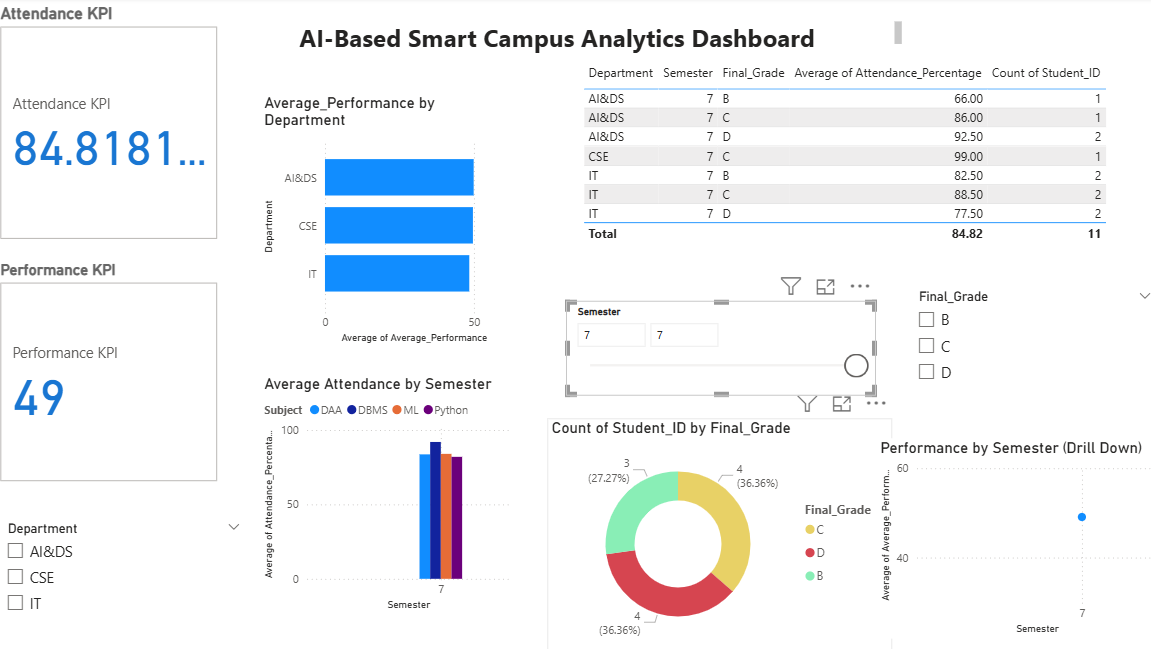

The dashboard page shown, as its layout file describes it:
{"tool":"powerbi","page":{"name":"Page 1","canvas":[1280,720],"ordinal":0},"visuals":[{"type":"cardVisual","title":"Attendance KPI","fields":{"Data":["Avg(5 student_performance.Attendance_Percentage)"]},"box":[0,7.1,248.6,264.3],"z":0},{"type":"cardVisual","title":"Performance KPI","fields":{"Data":["Avg(5 student_performance.Average_Performance)"]},"box":[0,290,248,248],"z":1000},{"type":"slicer","fields":{"Values":["5 student_performance.Department"]},"box":[0,570,280,150],"z":2000},{"type":"slicer","fields":{"Values":["5 student_performance.Semester"]},"box":[625.7,332.9,340,104.3],"z":3000},{"type":"clusteredBarChart","title":"Average_Performance by Department","fields":{"Category":["5 student_performance.Department"],"Y":["Avg(5 student_performance.Average_Performance)"]},"box":[290,105.7,280,280],"z":4000},{"type":"clusteredColumnChart","title":"Average Attendance by Semester","fields":{"Category":["5 student_performance.Semester"],"Y":["Avg(5 student_performance.Attendance_Percentage)"],"Series":["5 student_performance.Subject"]},"box":[290,414.3,280,264.3],"z":5000},{"type":"tableEx","fields":{"Values":["5 student_performance.Department","5 student_performance.Semester","5 student_performance.Final_Grade","Avg(5 student_performance.Attendance_Percentage)","CountNonNull(5 student_performance.Student_ID)"]},"box":[640,67.1,602.9,248.6],"z":6000},{"type":"donutChart","fields":{"Category":["5 student_performance.Final_Grade"],"Y":["CountNonNull(5 student_performance.Student_ID)"]},"box":[605.7,462.9,378.6,257.1],"z":7000},{"type":"slicer","fields":{"Values":["5 student_performance.Final_Grade"]},"box":[1000,315.7,280,147.1],"z":8000},{"type":"areaChart","title":"Performance by Semester (Drill Down)","fields":{"Category":["5 student_performance.Department","5 student_performance.Semester","5 student_performance.Student_ID"],"Y":["Avg(5 student_performance.Average_Performance)"]},"box":[965.7,484.3,314.3,220],"z":9000},{"type":"textbox","box":[328.6,21.4,671.4,45.7],"z":11000}]}

Visuals, with their boxes on the page's 1280x720 design canvas (x1, y1, x2, y2). These are canvas units, not pixel positions in the 1151x649 screenshot, which may show the page scaled, cropped or inside an application window:
"Attendance KPI" cardVisual: 0, 7, 249, 271
"Performance KPI" cardVisual: 0, 290, 248, 538
slicer - 5 student_performance.Department: 0, 570, 280, 720
slicer - 5 student_performance.Semester: 626, 333, 966, 437
"Average_Performance by Department" clusteredBarChart: 290, 106, 570, 386
"Average Attendance by Semester" clusteredColumnChart: 290, 414, 570, 679
tableEx - 5 student_performance.Department x 5 student_performance.Semester: 640, 67, 1243, 316
donutChart - 5 student_performance.Final_Grade x CountNonNull(5 student_performance.Student_ID): 606, 463, 984, 720
slicer - 5 student_performance.Final_Grade: 1000, 316, 1280, 463
"Performance by Semester (Drill Down)" areaChart: 966, 484, 1280, 704
textbox: 329, 21, 1000, 67
